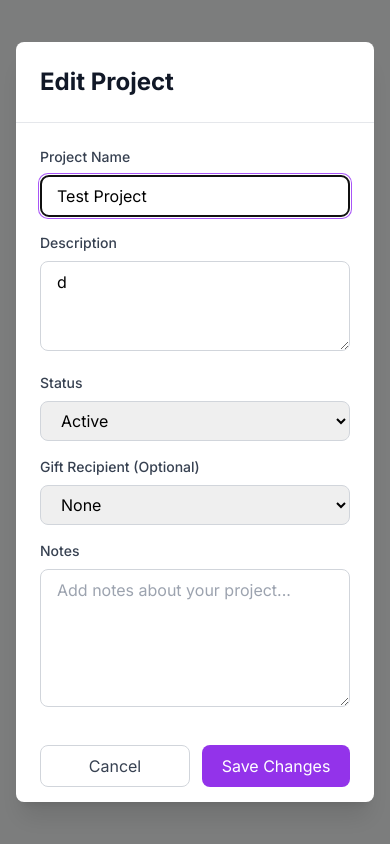
Test: EditProjectModal error handling › shows the server-supplied error message inside the form when submit rejects
The image size is (390, 844).
Click the button "Save Changes".
click(276, 766)  # box [202, 745, 350, 787]
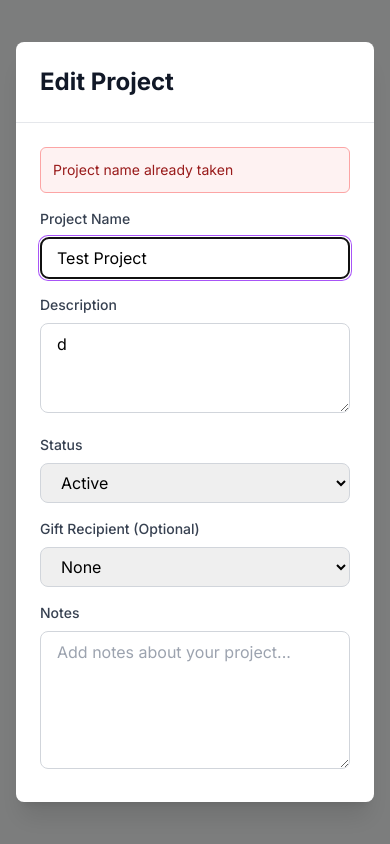
Check: the message reads "Project name already taken", box [53, 161, 233, 178]
